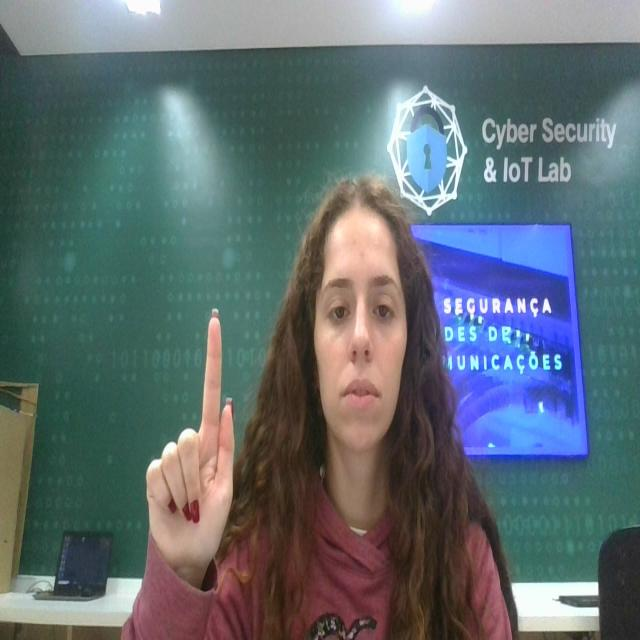G: (141, 304, 249, 582)
